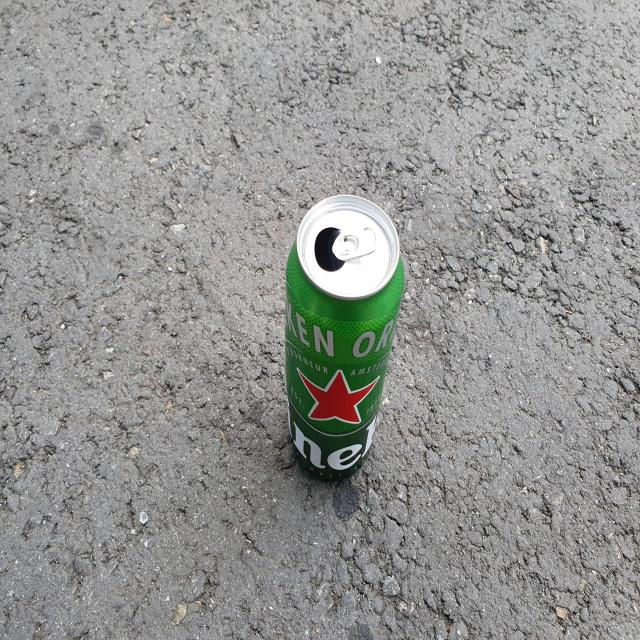can: (285, 194, 405, 481)
